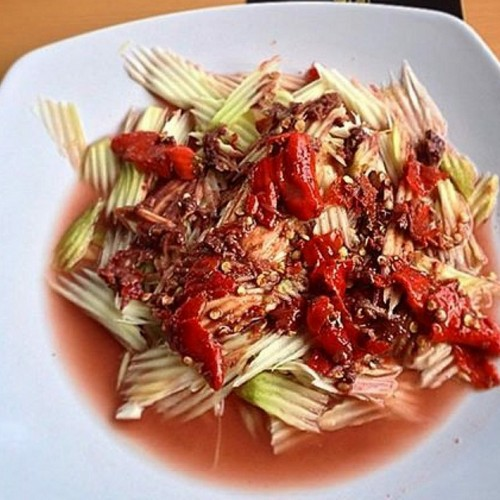rujak buleleng: (65, 62, 488, 459)
